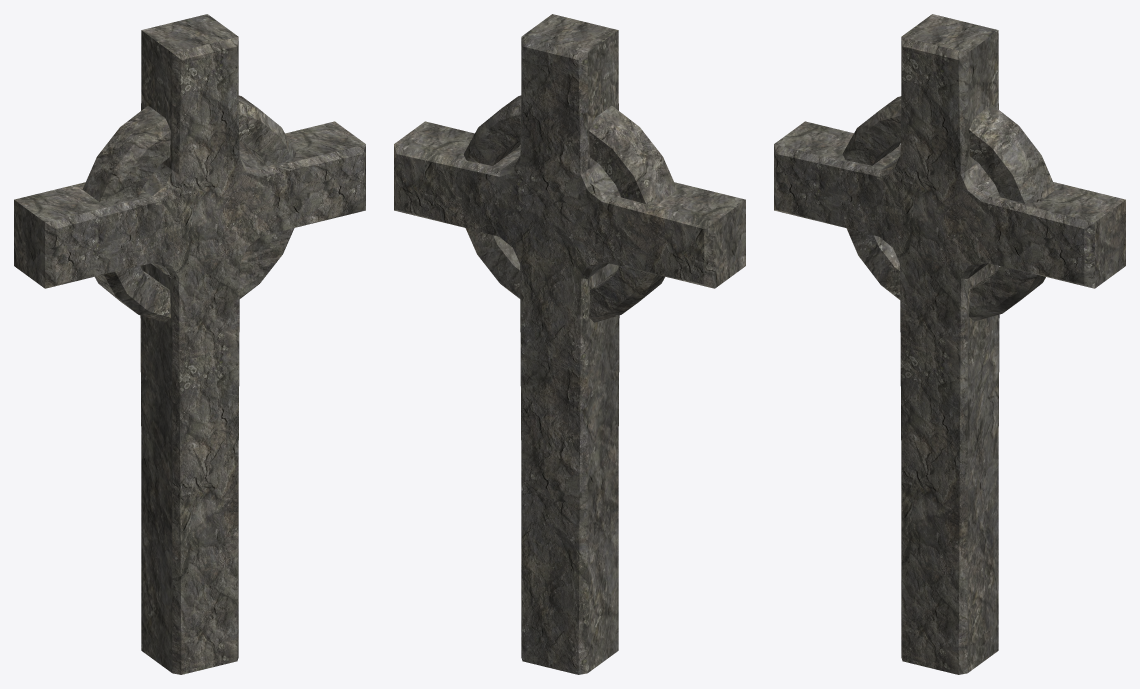
The model's file is Gravestones_Cross_Stone_02.fbx.
3 views of the same model, side by side, from view 1: azimuth 30°, elevation 25°; view 2: azimuth 150°, elevation 25°; view 3: azimuth 330°, elevation 25° (orthographic).
Parts seen in each view (by area): view 1: polySurface56; view 2: polySurface56; view 3: polySurface56.
Part boxes in pixels (bbox=[...]): polySurface56: bbox=[14, 14, 365, 674]; polySurface56: bbox=[394, 14, 745, 674]; polySurface56: bbox=[774, 14, 1125, 674].
Bounding box in the file's own units: 0.9925 × 1.83 × 0.2091.
